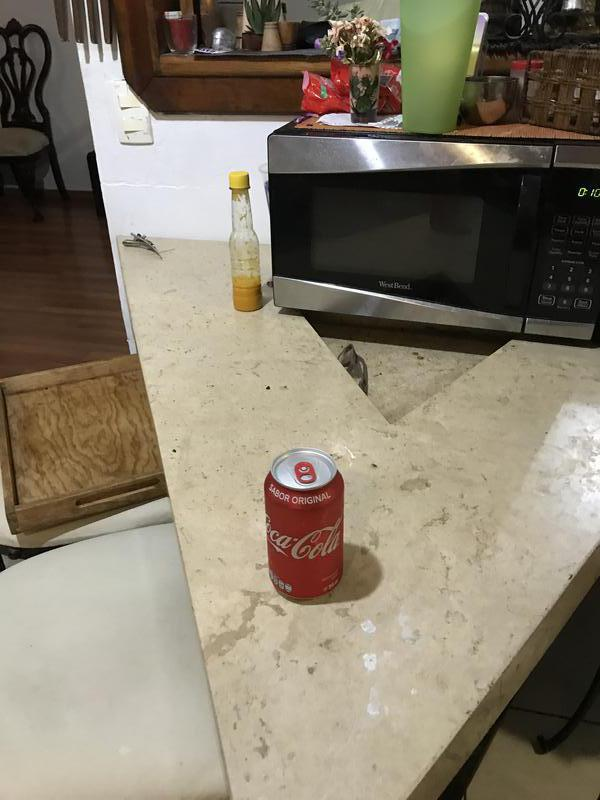coca_cola: (266, 450, 344, 600)
